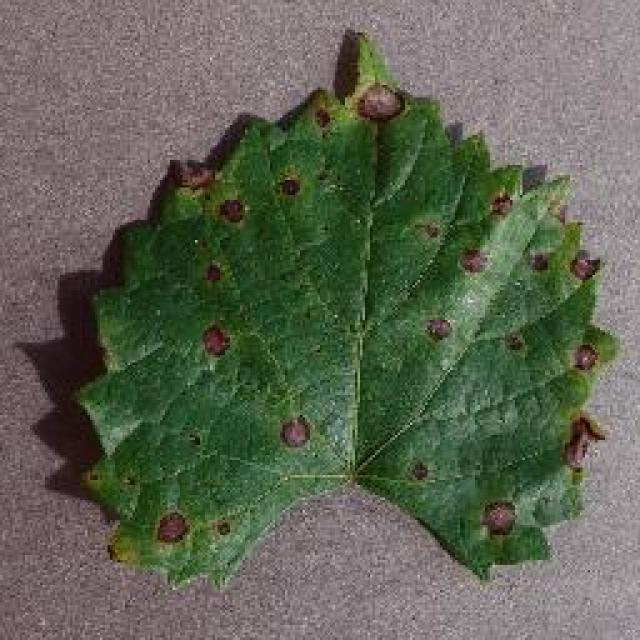Grape___Black_rot: (61, 26, 628, 600)
